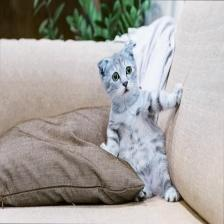kedo: (99, 46, 182, 201)
